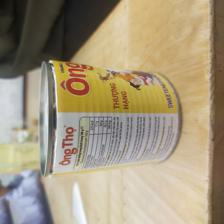Ong_tho: (36, 58, 182, 178)
